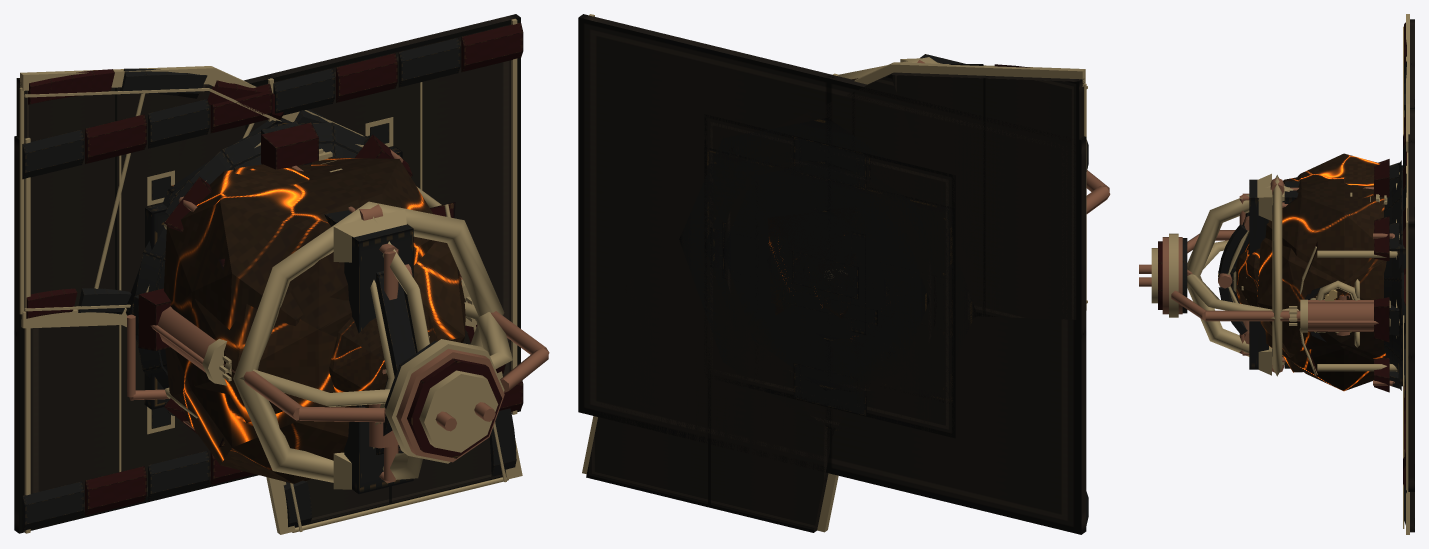
The model's file is world-low.glb.
The picture shows the model from 3 angles, left to right: view 1: azimuth 30°, elevation 25°; view 2: azimuth 150°, elevation 25°; view 3: azimuth 270°, elevation 25°; orthographic projection. The views are drawn at different scales.
Parts seen in each view (by area): view 1: track-straight-root.001 / Riveted iron road.001, track-bend-root.001 / Riveted iron road.001, ore-captured-root.001 / Veined natural slate.001, track-straight-root.001 / Riveted iron.001, track-straight-root.001 / Burgundy enamel.001, Gimbal bearing.005 / Machined brass.001, ore-small-root.001 / Veined natural slate.001, reactor-root.001 / Copper feed lines.001, track-bend-root.001 / Machined brass.001, reactor-root.001 / Burgundy enamel.001, reactor-root.001 / Machined brass.001, reactor-root.001 / Riveted iron.001 (+16 smaller); view 2: track-straight-root.001 / Riveted iron road.001, track-bend-root.001 / Riveted iron road.001, deposit-root.001 / Riveted iron.001, floor-tile-root.001 / Riveted iron road.001, reactor-root.001 / Riveted iron.001, dock-root.001 / Riveted iron road.001, pit-station-root.001 / Riveted iron.001, finish-arch-root.001 / Riveted iron.001, drop-core-root.001 / Riveted iron.001, gate-marker-root.001 / Riveted iron.001, track-bend-root.001 / Machined brass.001, capture-clamp-root.001 / Riveted iron.001 (+7 smaller); view 3: ore-medium-root.001 / Veined natural slate.001, reactor-root.001 / Copper feed lines.001, ore-large-root.001 / Veined natural slate.001, reactor-root.001 / Riveted iron.001, Gimbal bearing.003 / Machined brass.001, reactor-root.001 / Burgundy enamel.001, track-straight-root.001 / Riveted iron road.001, ore-captured-root.001 / Veined natural slate.001, Gimbal bearing.005 / Machined brass.001, ore-small-root.001 / Veined natural slate.001, reactor-root.001 / Machined brass.001, gantry-root.001 / Riveted iron.001 (+12 smaller).
Boxes of the visible parts, x1,y1,x2,y2 form: track-straight-root.001 / Riveted iron road.001: (14,14,520,533); track-bend-root.001 / Riveted iron road.001: (16,78,502,527); ore-captured-root.001 / Veined natural slate.001: (164,164,367,483); track-straight-root.001 / Riveted iron.001: (22,38,460,531); track-straight-root.001 / Burgundy enamel.001: (85,22,523,515); Gimbal bearing.005 / Machined brass.001: (233,201,504,482); ore-small-root.001 / Veined natural slate.001: (192,220,461,423); reactor-root.001 / Copper feed lines.001: (127,149,549,462); track-bend-root.001 / Machined brass.001: (19,66,522,534); reactor-root.001 / Burgundy enamel.001: (138,122,502,458); reactor-root.001 / Machined brass.001: (146,142,504,463); reactor-root.001 / Riveted iron.001: (126,119,437,415); track-straight-root.001 / Riveted iron road.001: (578,14,1086,534); track-bend-root.001 / Riveted iron road.001: (586,72,1084,532); deposit-root.001 / Riveted iron.001: (722,161,929,390); floor-tile-root.001 / Riveted iron road.001: (704,114,955,438); reactor-root.001 / Riveted iron.001: (679,118,975,430); dock-root.001 / Riveted iron road.001: (723,160,936,391); pit-station-root.001 / Riveted iron.001: (704,147,955,404); finish-arch-root.001 / Riveted iron.001: (793,136,866,415); drop-core-root.001 / Riveted iron.001: (767,210,888,341); gate-marker-root.001 / Riveted iron.001: (704,146,944,395); track-bend-root.001 / Machined brass.001: (582,62,1087,532); capture-clamp-root.001 / Riveted iron.001: (792,251,858,299); ore-medium-root.001 / Veined natural slate.001: (1265,168,1384,391); reactor-root.001 / Copper feed lines.001: (1139,230,1394,385); ore-large-root.001 / Veined natural slate.001: (1257,237,1386,357); reactor-root.001 / Riveted iron.001: (1182,160,1405,390); Gimbal bearing.003 / Machined brass.001: (1187,185,1293,356); reactor-root.001 / Burgundy enamel.001: (1158,159,1389,392); track-straight-root.001 / Riveted iron road.001: (1408,130,1414,491); ore-captured-root.001 / Veined natural slate.001: (1296,153,1380,202); Gimbal bearing.005 / Machined brass.001: (1272,175,1282,376); ore-small-root.001 / Veined natural slate.001: (1264,177,1385,372); reactor-root.001 / Machined brass.001: (1151,172,1399,371); gantry-root.001 / Riveted iron.001: (1249,179,1268,369).
Bounding box in the file's own units: 4 × 4 × 2.8.
13 materials, 5 textured.
